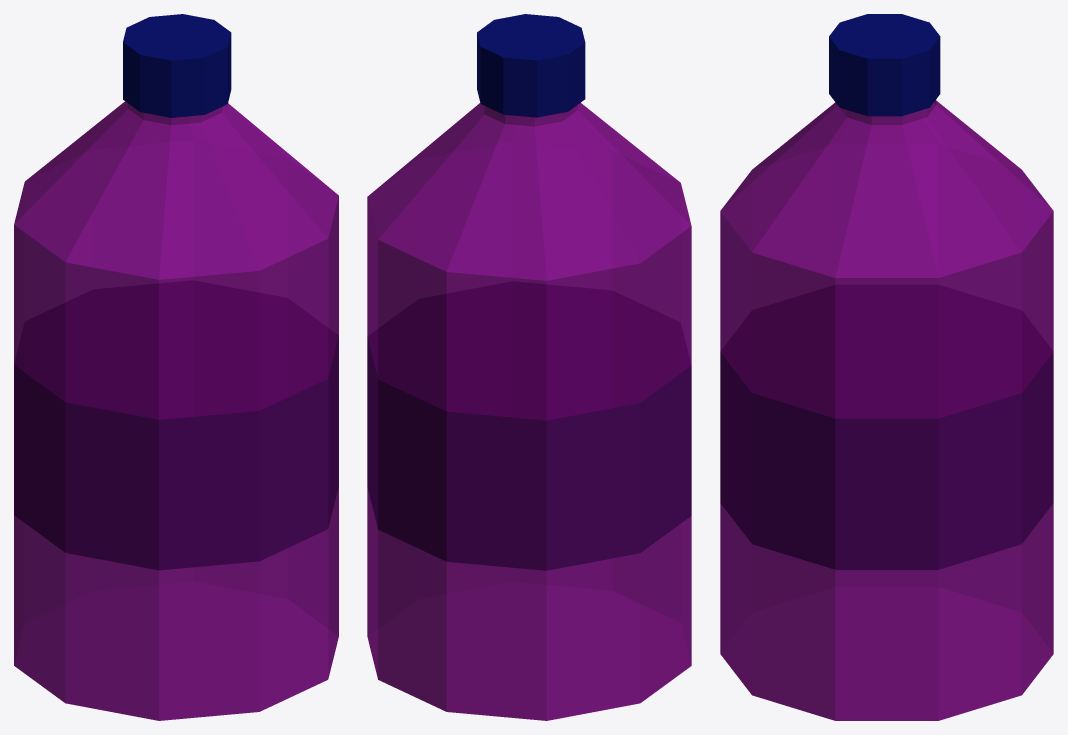
The model's file is water bottlet3.fbx.
3 views of the same model, side by side, from view 1: azimuth 30°, elevation 25°; view 2: azimuth 150°, elevation 25°; view 3: azimuth 270°, elevation 25° (orthographic).
Visible parts, largest first — view 1: Cylinder.001; view 2: Cylinder.001; view 3: Cylinder.001.
Part boxes in pixels (x1,y1,x2,y2): Cylinder.001: [14, 14, 338, 720]; Cylinder.001: [367, 14, 691, 720]; Cylinder.001: [720, 14, 1053, 720].
Bounding box in the file's own units: 190 × 408 × 200.
